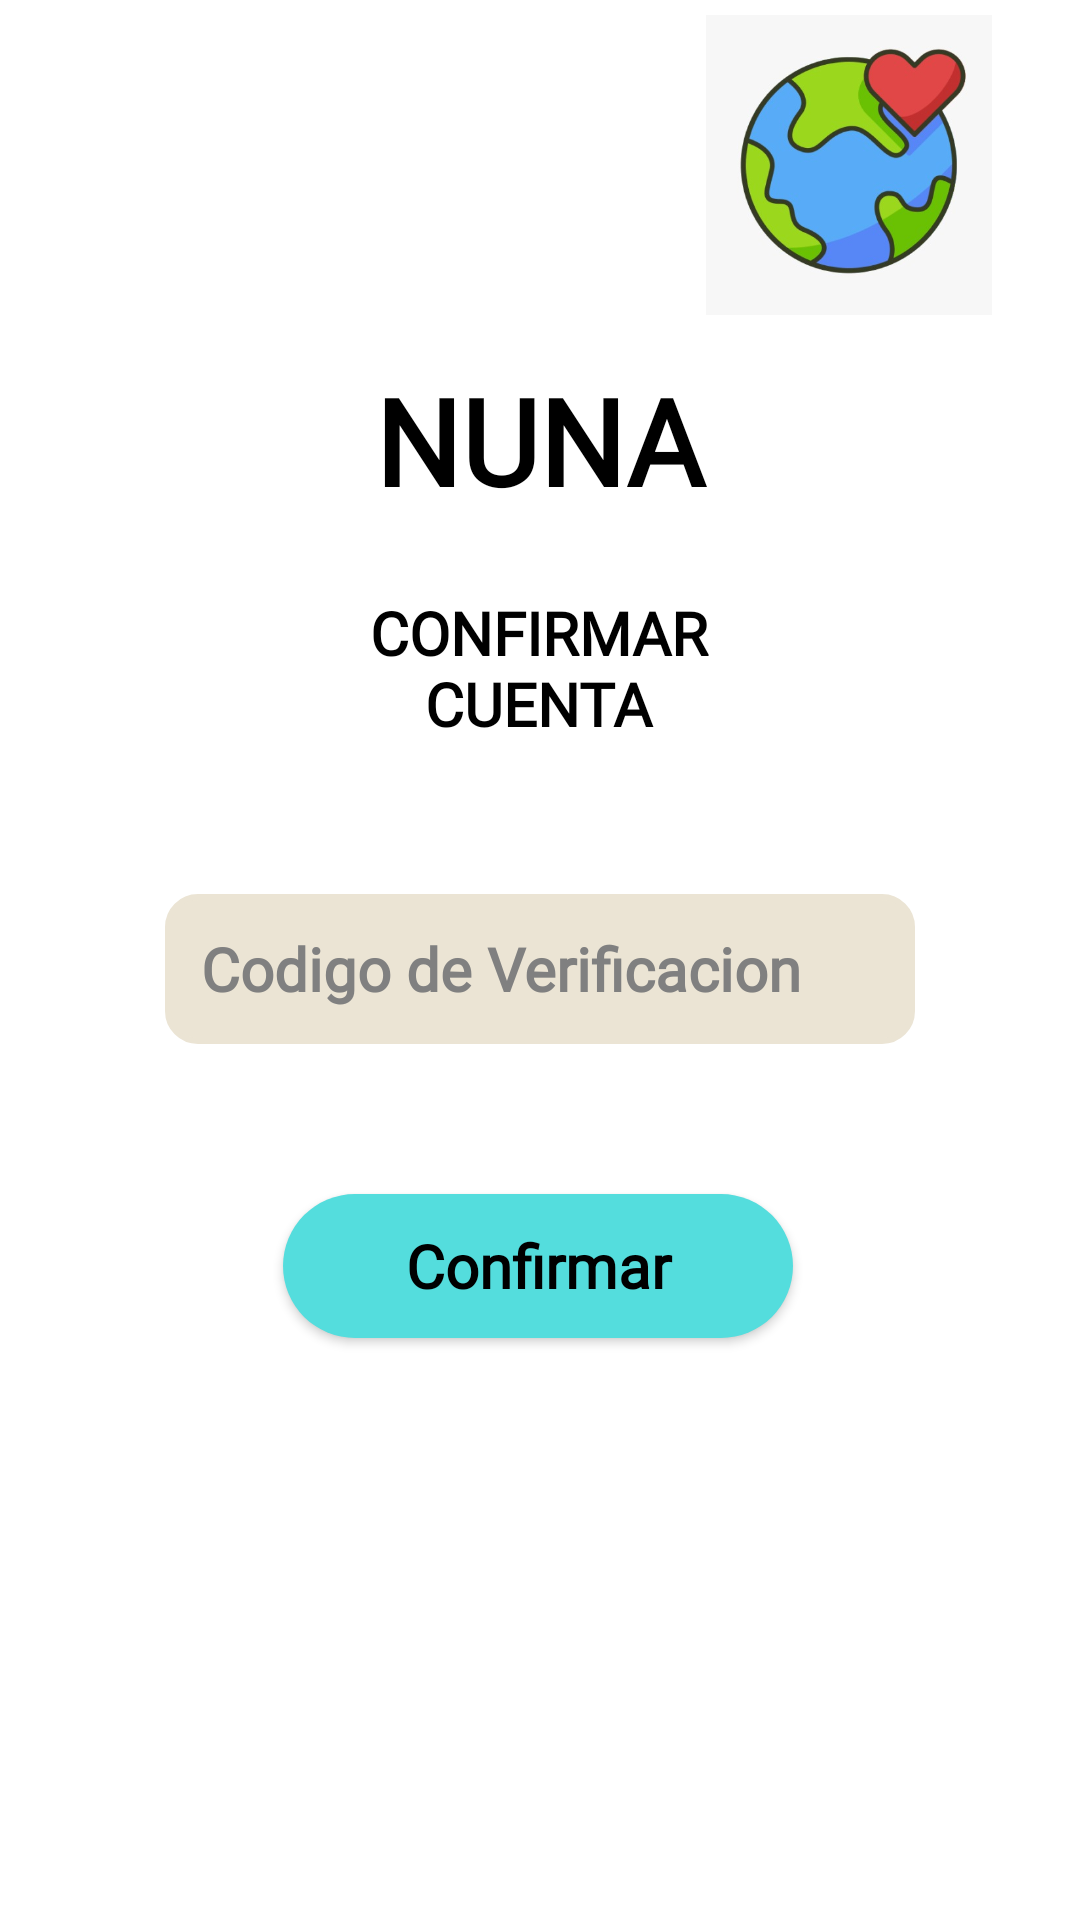

Icon click points for this 1080w x 1920h phone screenshot, format (x=x, y=y):
Imagen de un planeta: (x=853, y=161)
